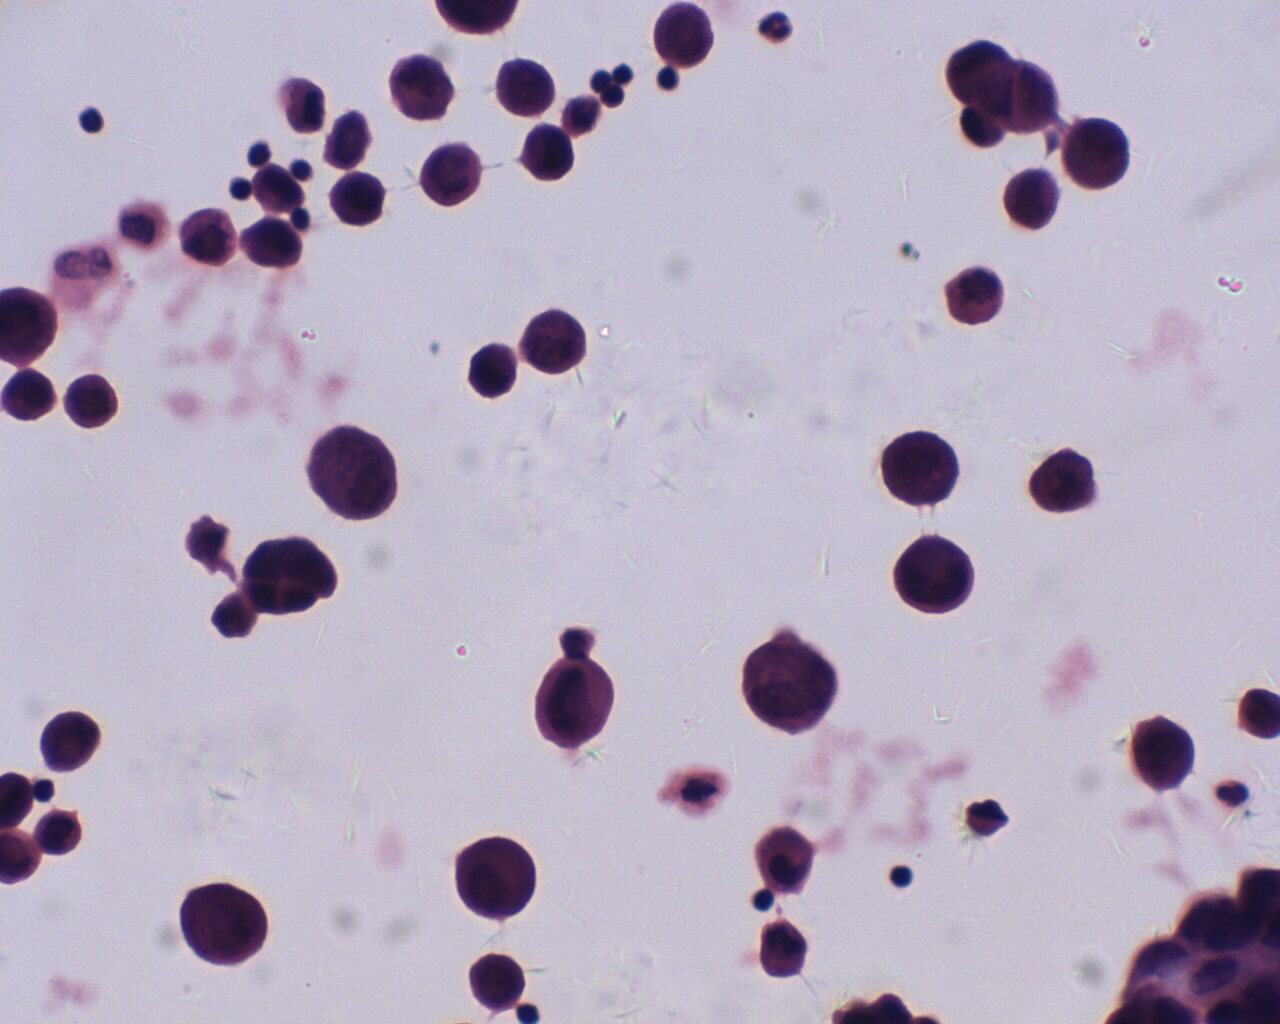ab: (742, 634, 839, 739), (310, 426, 402, 523), (173, 877, 270, 965), (529, 654, 615, 749), (894, 532, 976, 616), (456, 838, 536, 920), (879, 430, 961, 509), (416, 139, 484, 209), (997, 168, 1063, 236), (647, 3, 717, 66), (495, 57, 563, 121)
lymph: (885, 858, 917, 892), (75, 104, 106, 136)
meso: (945, 263, 1007, 330)
neutro: (754, 9, 794, 43)
